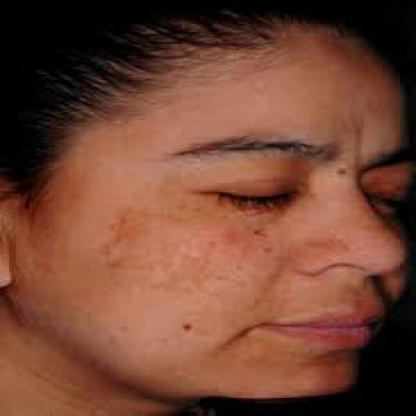darkspot: (89, 206, 209, 287), (152, 313, 214, 336), (234, 227, 280, 254), (327, 163, 350, 180)
